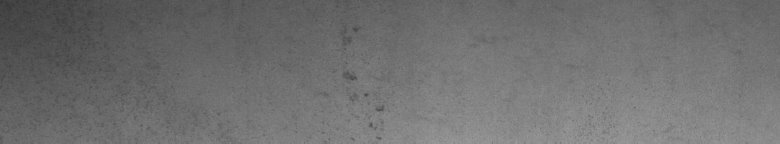ib: (320, 27, 390, 131)
